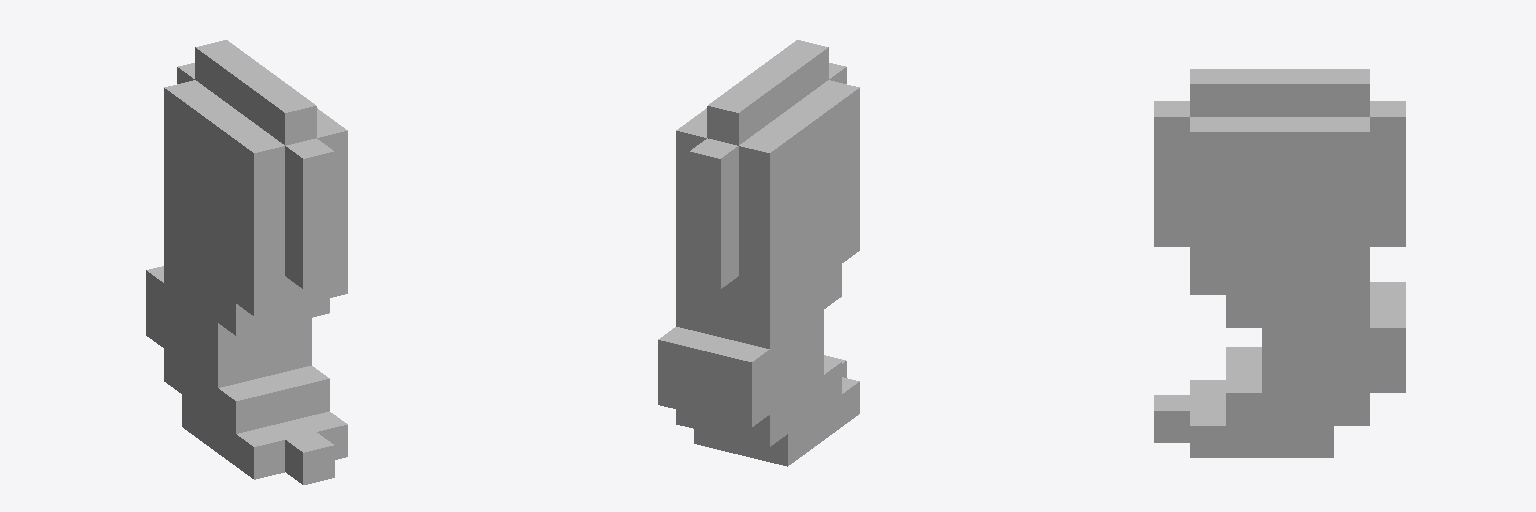
Rendered from ratRIGHTfrontleg.obj.
3 renders of one model, left to right at view 1: azimuth 30°, elevation 25°; view 2: azimuth 150°, elevation 25°; view 3: azimuth 270°, elevation 25°, orthographic.
Parts seen in each view (by area): view 1: object 1; view 2: object 1; view 3: object 1.
Part boxes in pixels (left/top/right/bottom): object 1: left=146, top=40, right=347, bottom=484; object 1: left=658, top=40, right=859, bottom=466; object 1: left=1154, top=69, right=1405, bottom=457.
Bounding box in the file's own units: 0.3 × 1.1 × 0.7.